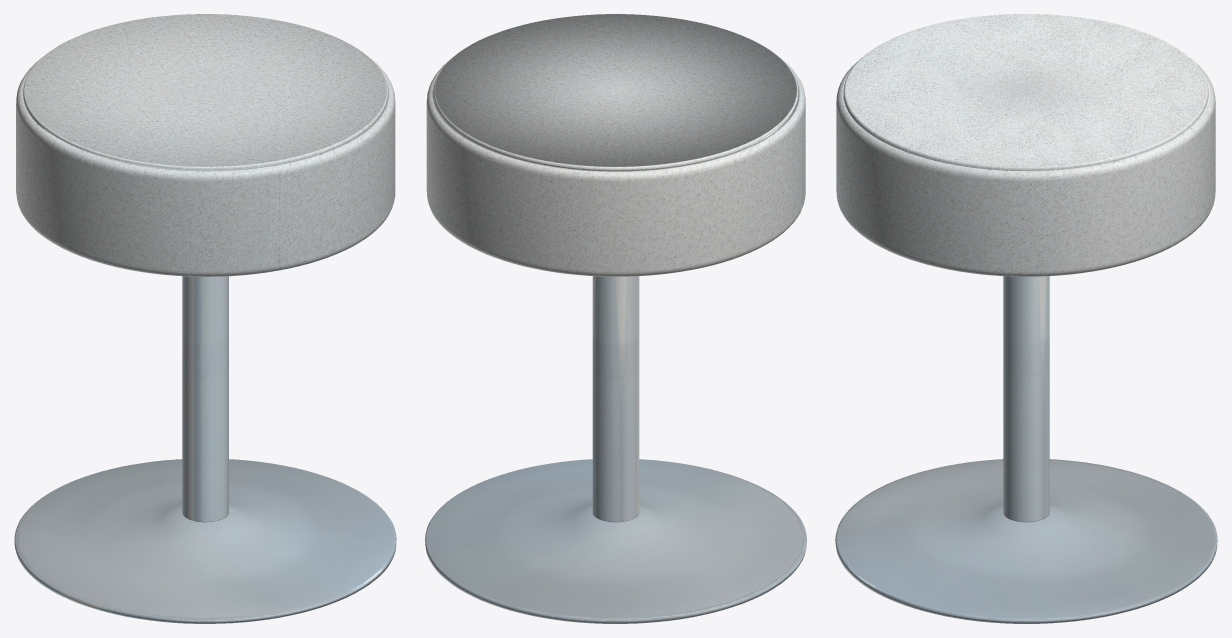
File: polesella.glb
3 views of the same model, side by side, from view 1: azimuth 30°, elevation 25°; view 2: azimuth 150°, elevation 25°; view 3: azimuth 270°, elevation 25° (orthographic).
Visible parts, largest first — view 1: polesella-white; view 2: polesella-white; view 3: polesella-white.
Boxes of the visible parts, x1,y1,x2,y2 form: polesella-white: (14,14,396,623); polesella-white: (425,14,806,623); polesella-white: (835,14,1217,623).
Bounding box in the file's own units: 0.3528 × 0.4614 × 0.3528.
1 material, 1 textured.
